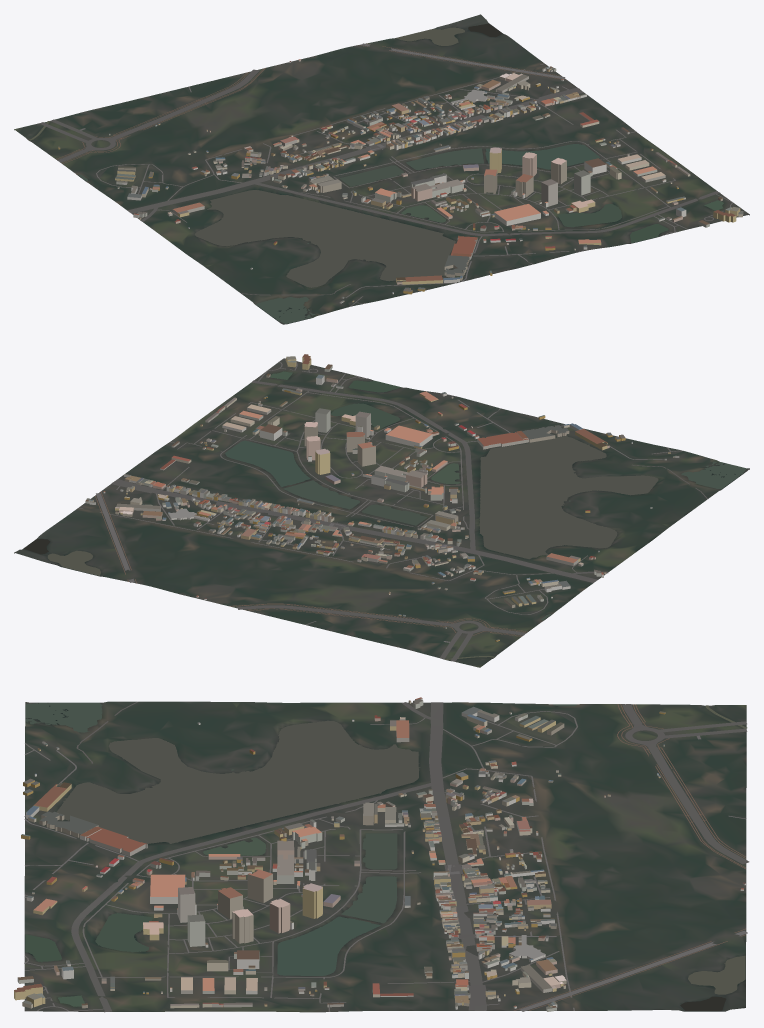
3 views of the same model, one above another, from view 1: azimuth 30°, elevation 25°; view 2: azimuth 150°, elevation 25°; view 3: azimuth 270°, elevation 25° (orthographic). The views are drawn at different scales.
Parts seen in each view (by area): view 1: ground, buildings, water, roads; view 2: ground, water, buildings, roads; view 3: ground, water, buildings, roads.
Boxes of the visible parts, box(x1,y1,x2,y2) form: ground: box(14, 14, 749, 324); buildings: box(58, 59, 743, 303); water: box(28, 23, 723, 323); roads: box(39, 43, 744, 306); ground: box(14, 358, 749, 667); water: box(23, 371, 746, 659); buildings: box(85, 354, 679, 641); roads: box(78, 361, 707, 661); ground: box(24, 701, 746, 1012); water: box(25, 702, 747, 1010); buildings: box(14, 697, 745, 1011); roads: box(24, 701, 749, 1012).
Bounding box in the file's own units: 1412 × 67.63 × 1430.
